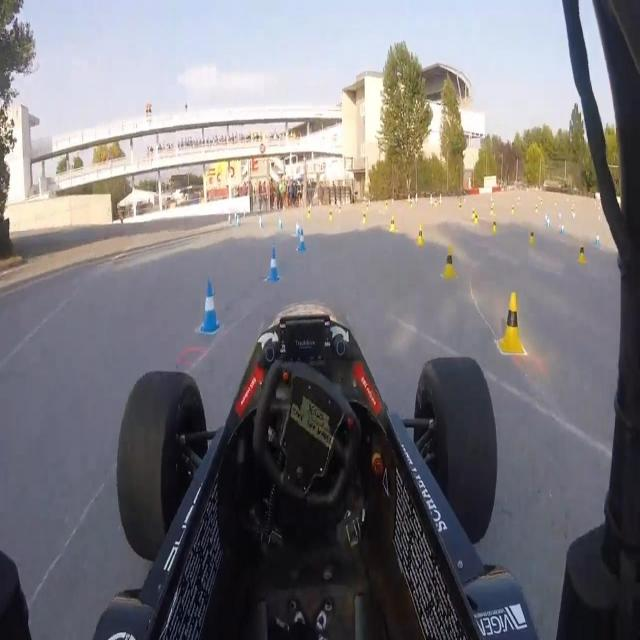blue_cone: (200, 278, 223, 334), (267, 244, 281, 284), (297, 228, 307, 254), (594, 231, 600, 248), (295, 218, 300, 237), (560, 223, 566, 237), (260, 215, 264, 233), (236, 215, 241, 229), (546, 217, 551, 229), (279, 217, 283, 231), (228, 212, 232, 225)
yellow_cone: (499, 292, 525, 358), (444, 244, 456, 280), (577, 243, 587, 265), (416, 221, 424, 247), (528, 228, 536, 248), (389, 214, 396, 233), (362, 211, 367, 225), (474, 212, 479, 226), (489, 205, 494, 216), (329, 209, 333, 222), (471, 207, 475, 220), (492, 220, 496, 232), (307, 208, 311, 219), (512, 204, 514, 215)
